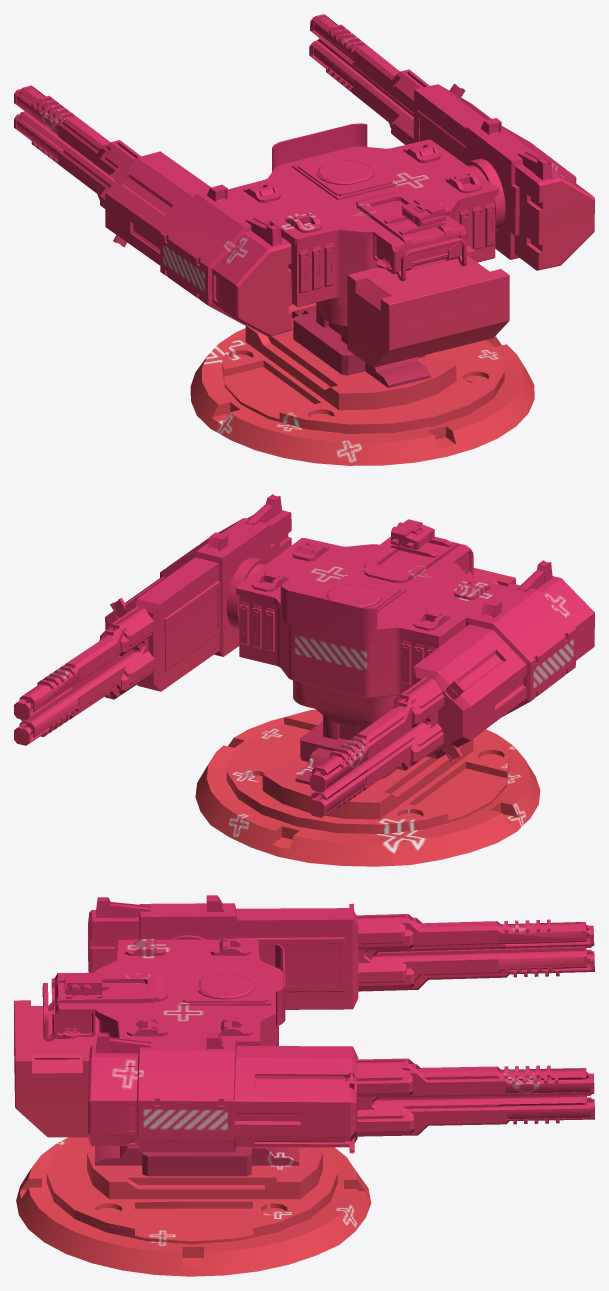
File: lowpoly_robo_1(1).fbx
3 renders of one model, top to bottom at view 1: azimuth 30°, elevation 25°; view 2: azimuth 150°, elevation 25°; view 3: azimuth 270°, elevation 25°, orthographic. The views are drawn at different scales.
Parts seen in each view (by area): view 1: Cylinder.002, tower.002, Torreta.002, rocket_launcher_1.004; view 2: Cylinder.002, Torreta.002, tower.002, rocket_launcher_1.004; view 3: Cylinder.002, Torreta.002, tower.002.
Boxes of the visible parts, box(x1,y1,x2,y2) form: Cylinder.002: box(14, 14, 594, 336); tower.002: box(228, 123, 509, 367); Torreta.002: box(190, 302, 534, 465); rocket_launcher_1.004: box(464, 158, 505, 231); Cylinder.002: box(14, 494, 594, 817); Torreta.002: box(195, 709, 540, 866); tower.002: box(236, 519, 515, 726); rocket_launcher_1.004: box(226, 557, 268, 630); Cylinder.002: box(88, 895, 594, 1153); Torreta.002: box(16, 1137, 371, 1276); tower.002: box(14, 938, 285, 1137).
Size of the model in its own units: 372 by 221 by 492.
